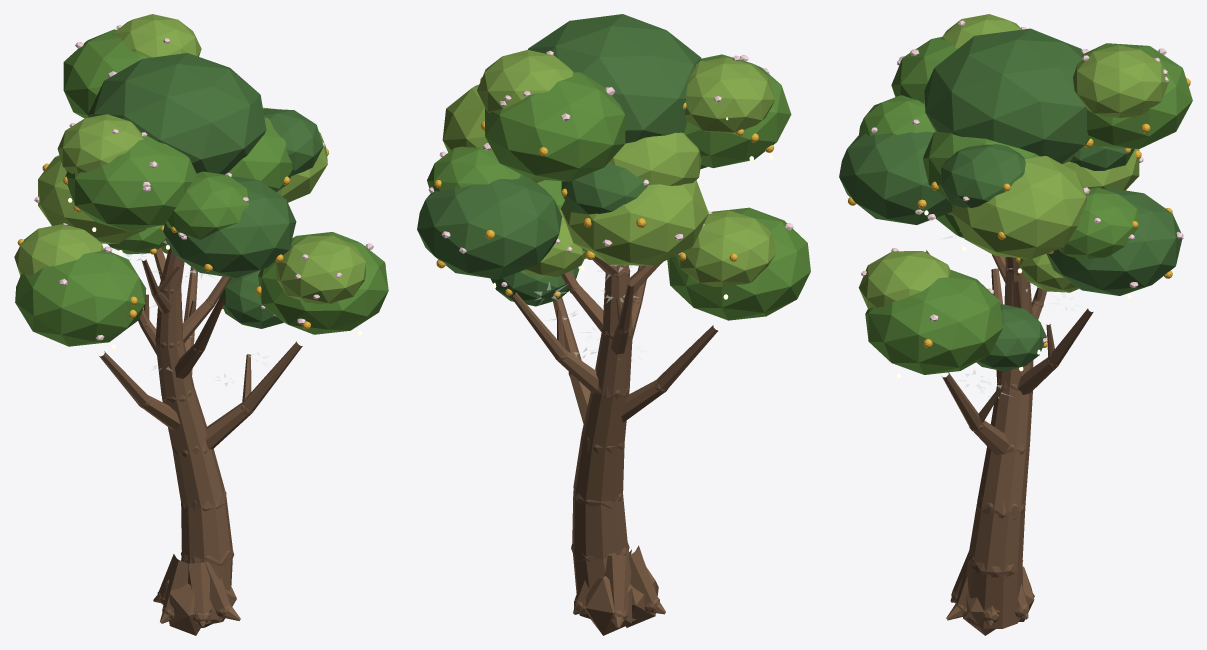
The model's file is tree_10_milestone_3_lys.glb.
3 views of the same model, side by side, from view 1: azimuth 30°, elevation 25°; view 2: azimuth 150°, elevation 25°; view 3: azimuth 270°, elevation 25° (orthographic). The views are drawn at different scales.
Visible parts, largest first — view 1: OR_Tree_leafA, OR_Tree_leafC, OR_Tree_bark, OR_Tree_leafB, OR_Tree_blossom, OR_Tree_gfruit; view 2: OR_Tree_leafB, OR_Tree_leafC, OR_Tree_leafA, OR_Tree_bark, OR_Tree_gfruit, OR_Tree_blossom; view 3: OR_Tree_leafC, OR_Tree_leafA, OR_Tree_leafB, OR_Tree_bark, OR_Tree_blossom, OR_Tree_gfruit.
Boxes of the visible parts, x1,y1,x2,y2 form: OR_Tree_leafA: [15, 29, 388, 346]; OR_Tree_leafC: [88, 53, 323, 328]; OR_Tree_bark: [99, 247, 302, 635]; OR_Tree_leafB: [14, 14, 365, 304]; OR_Tree_blossom: [34, 25, 373, 340]; OR_Tree_gfruit: [17, 148, 385, 329]; OR_Tree_leafB: [442, 50, 776, 287]; OR_Tree_leafC: [417, 14, 707, 306]; OR_Tree_leafA: [427, 54, 810, 320]; OR_Tree_bark: [511, 256, 717, 635]; OR_Tree_gfruit: [434, 77, 773, 298]; OR_Tree_blossom: [428, 50, 793, 286]; OR_Tree_leafC: [839, 28, 1181, 371]; OR_Tree_leafA: [858, 37, 1192, 374]; OR_Tree_leafB: [858, 14, 1168, 310]; OR_Tree_bark: [925, 250, 1093, 635]; OR_Tree_blossom: [861, 20, 1183, 342]; OR_Tree_gfruit: [848, 78, 1190, 347].
Size of the model in its own units: 17.56 by 28.36 by 15.62.
